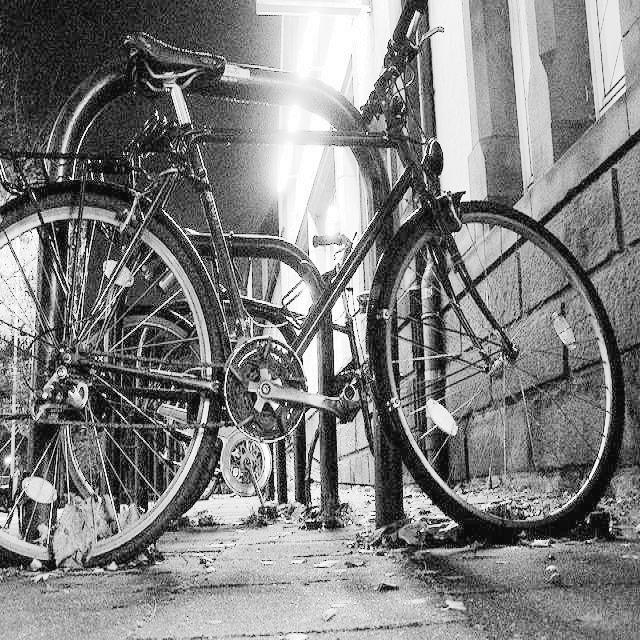Bicycle: (0, 22, 599, 548)
